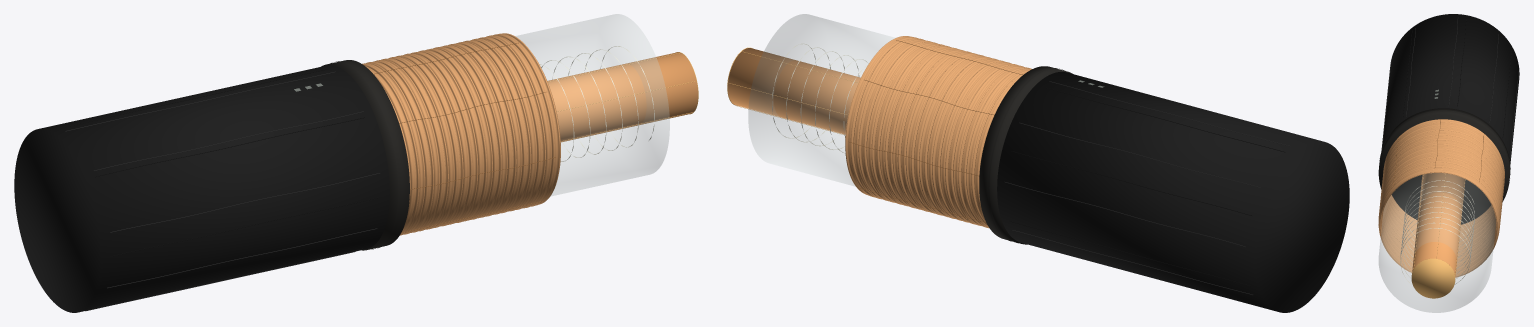
Rendered from rf-hj5-macro.glb.
3 renders of one model, left to right at view 1: azimuth 30°, elevation 25°; view 2: azimuth 150°, elevation 25°; view 3: azimuth 270°, elevation 25°, orthographic. The views are drawn at different scales.
Parts seen in each view (by area): view 1: macro hardline jacket body, annular corrugated solid shield, air dielectric visual envelope, polished solid center conductor, hardline jacket cut wall, continuous PE helical air spacer, rounded jacket cut lip; view 2: macro hardline jacket body, annular corrugated solid shield, air dielectric visual envelope, polished solid center conductor, hardline jacket cut wall, continuous PE helical air spacer, rounded jacket cut lip; view 3: macro hardline jacket body, air dielectric visual envelope, annular corrugated solid shield, polished solid center conductor, hardline jacket cut wall, polished conductor cut face glow, continuous PE helical air spacer, rounded jacket cut lip.
Part boxes in pixels (x1=…): macro hardline jacket body: x1=14, y1=65, x2=389, y2=312; annular corrugated solid shield: x1=362, y1=33, x2=560, y2=235; air dielectric visual envelope: x1=515, y1=14, x2=669, y2=195; polished solid center conductor: x1=547, y1=52, x2=697, y2=142; hardline jacket cut wall: x1=321, y1=60, x2=409, y2=250; continuous PE helical air spacer: x1=539, y1=46, x2=654, y2=161; rounded jacket cut lip: x1=330, y1=61, x2=400, y2=249; macro hardline jacket body: x1=997, y1=72, x2=1349, y2=312; annular corrugated solid shield: x1=845, y1=36, x2=1031, y2=228; air dielectric visual envelope: x1=748, y1=14, x2=894, y2=185; polished solid center conductor: x1=727, y1=48, x2=860, y2=134; hardline jacket cut wall: x1=979, y1=66, x2=1072, y2=244; continuous PE helical air spacer: x1=772, y1=43, x2=868, y2=153; rounded jacket cut lip: x1=987, y1=68, x2=1063, y2=243; macro hardline jacket body: x1=1381, y1=14, x2=1519, y2=163; air dielectric visual envelope: x1=1379, y1=173, x2=1495, y2=312; annular corrugated solid shield: x1=1378, y1=119, x2=1504, y2=277; polished solid center conductor: x1=1412, y1=173, x2=1465, y2=276; hardline jacket cut wall: x1=1378, y1=108, x2=1510, y2=224; polished conductor cut face glow: x1=1411, y1=258, x2=1455, y2=298; continuous PE helical air spacer: x1=1400, y1=180, x2=1474, y2=284; rounded jacket cut lip: x1=1379, y1=110, x2=1510, y2=182.
Size of the model in its own units: 19.08 by 5.13 by 5.48.
